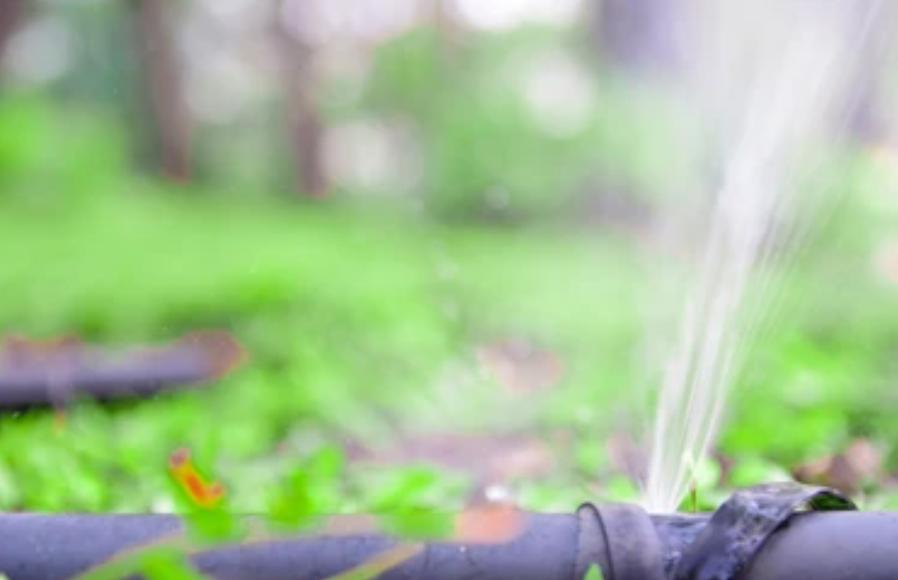pipe burst: (615, 0, 898, 510)
